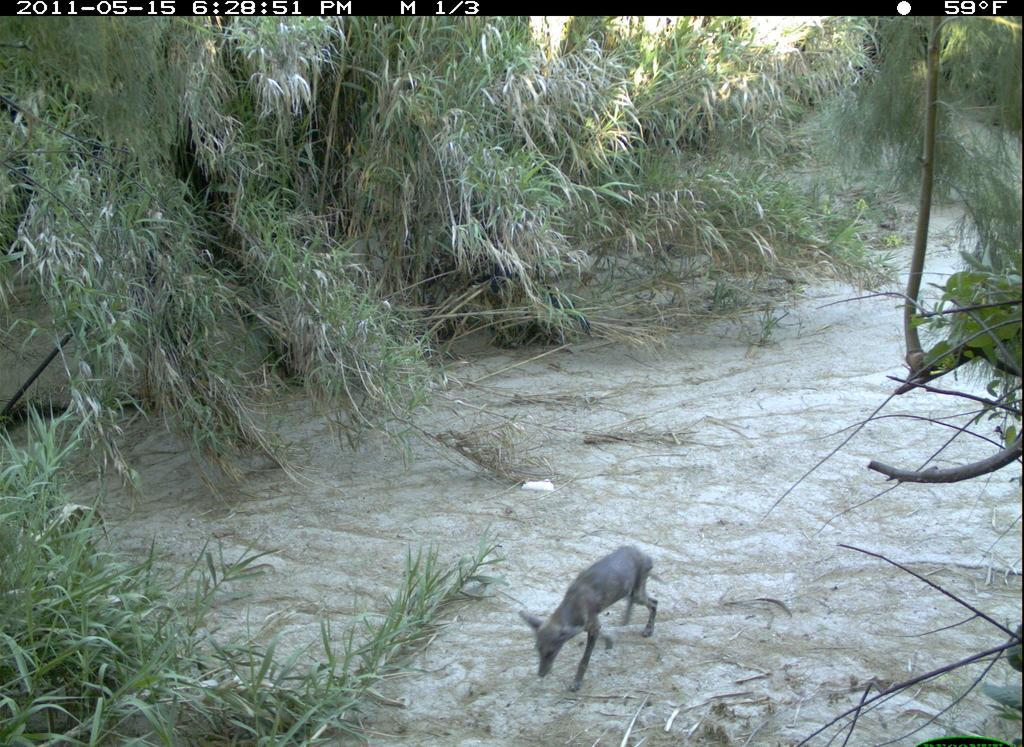coyote: (513, 538, 697, 712)
